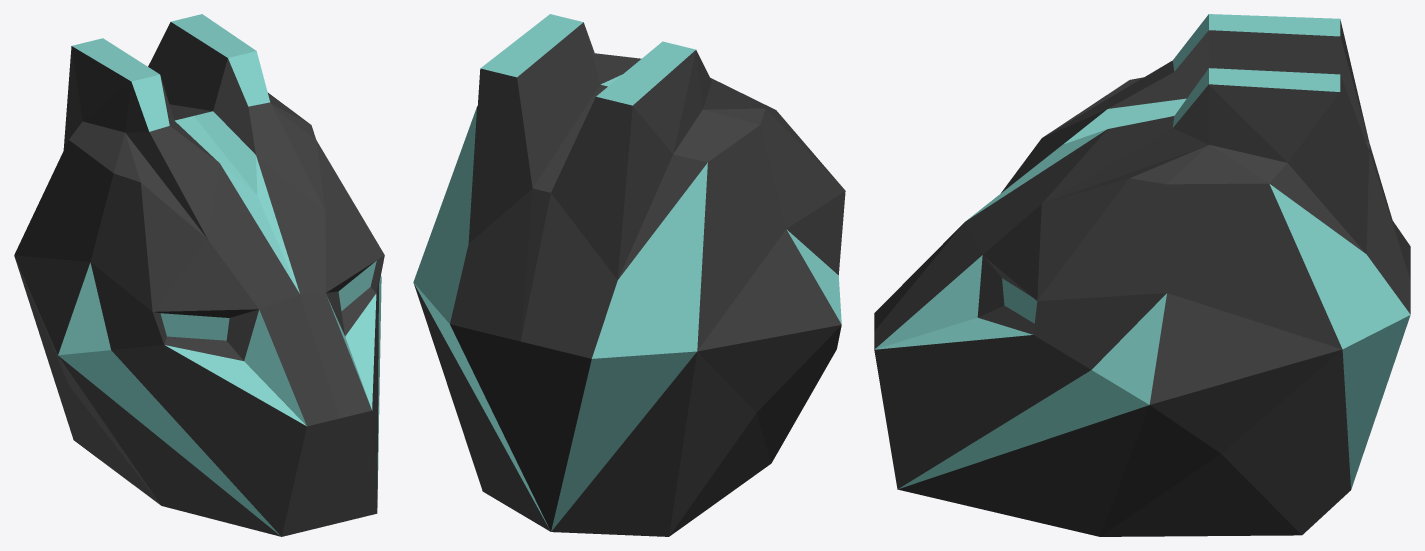
The model's file is Helmet.fbx.
3 renders of one model, left to right at view 1: azimuth 30°, elevation 25°; view 2: azimuth 150°, elevation 25°; view 3: azimuth 270°, elevation 25°, orthographic. The views are drawn at different scales.
Visible parts, largest first — view 1: Helmet; view 2: Helmet; view 3: Helmet.
Part boxes in pixels (x1=…): Helmet: x1=14, y1=14, x2=384, y2=536; Helmet: x1=413, y1=14, x2=845, y2=536; Helmet: x1=874, y1=14, x2=1410, y2=536.
Size of the model in its own units: 0.3052 by 0.3474 by 0.3812.
